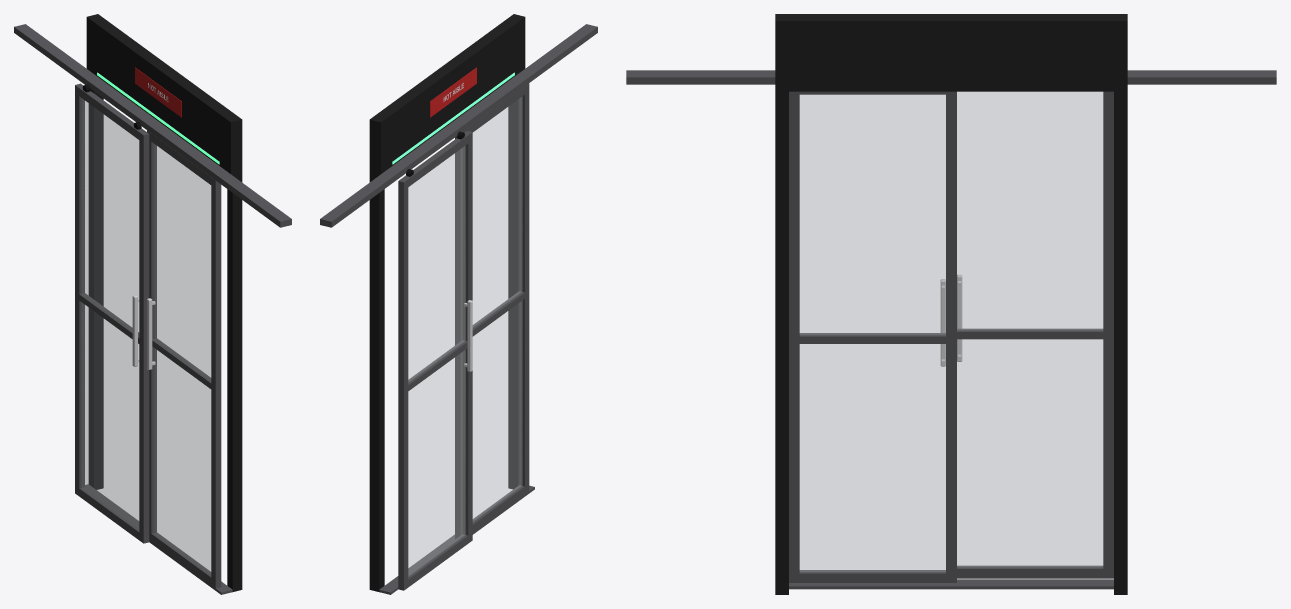
The model's file is Contain_EndDoor.glb.
The picture shows the model from 3 angles, left to right: view 1: azimuth 30°, elevation 25°; view 2: azimuth 150°, elevation 25°; view 3: azimuth 270°, elevation 25°; orthographic projection. The views are drawn at different scales.
Visible parts, largest first — view 1: DoorLeaf_L_Glass, DoorLeaf_R_Glass, Header, Post_-1, Post_+1, Track, DoorLeaf_L_Stile_-1, DoorLeaf_R_Stile_-1, DoorLeaf_R_Stile_+1, DoorLeaf_L_Stile_+1, DoorLeaf_R_Rail_-1, DoorLeaf_L_Rail_-1 (+9 smaller); view 2: DoorLeaf_R_Glass, DoorLeaf_L_Glass, Header, Post_+1, Track, Post_-1, DoorLeaf_R_Stile_+1, DoorLeaf_L_Stile_-1, DoorLeaf_R_Stile_-1, DoorLeaf_L_Stile_+1, DoorLeaf_R_Rail_-1, DoorLeaf_R_Rail_+1 (+8 smaller); view 3: DoorLeaf_L_Glass, DoorLeaf_R_Glass, Header, Post_+1, Post_-1, DoorLeaf_L_Stile_+1, DoorLeaf_L_Stile_-1, DoorLeaf_R_Stile_+1, Track, Guide, DoorLeaf_R_Rail_-1, DoorLeaf_L_Rail_-1 (+2 smaller).
Part boxes in pixels (bbox=[...]): DoorLeaf_L_Glass: bbox=[154, 144, 210, 574]; DoorLeaf_R_Glass: bbox=[82, 99, 138, 528]; Header: bbox=[86, 14, 242, 178]; Post_-1: bbox=[227, 116, 242, 591]; Post_+1: bbox=[88, 14, 103, 489]; Track: bbox=[14, 24, 291, 227]; DoorLeaf_L_Stile_-1: bbox=[211, 177, 221, 588]; DoorLeaf_R_Stile_-1: bbox=[139, 131, 149, 543]; DoorLeaf_R_Stile_+1: bbox=[75, 83, 84, 495]; DoorLeaf_L_Stile_+1: bbox=[147, 130, 156, 540]; DoorLeaf_R_Rail_-1: bbox=[79, 487, 139, 539]; DoorLeaf_L_Rail_-1: bbox=[151, 532, 211, 584]; DoorLeaf_R_Glass: bbox=[408, 146, 465, 575]; DoorLeaf_L_Glass: bbox=[473, 97, 522, 521]; Header: bbox=[369, 14, 525, 178]; Post_+1: bbox=[369, 116, 384, 591]; Track: bbox=[320, 24, 597, 227]; Post_-1: bbox=[508, 14, 522, 489]; DoorLeaf_R_Stile_+1: bbox=[398, 178, 408, 590]; DoorLeaf_L_Stile_-1: bbox=[519, 83, 529, 494]; DoorLeaf_R_Stile_-1: bbox=[462, 131, 472, 543]; DoorLeaf_L_Stile_+1: bbox=[455, 130, 464, 539]; DoorLeaf_R_Rail_-1: bbox=[408, 534, 468, 587]; DoorLeaf_R_Rail_+1: bbox=[403, 134, 468, 186]; DoorLeaf_L_Glass: bbox=[800, 95, 945, 571]; DoorLeaf_R_Glass: bbox=[957, 92, 1102, 566]; Header: bbox=[775, 14, 1127, 91]; Post_+1: bbox=[1114, 15, 1127, 594]; Post_-1: bbox=[775, 15, 788, 594]; DoorLeaf_L_Stile_+1: bbox=[946, 91, 956, 582]; DoorLeaf_L_Stile_-1: bbox=[789, 91, 799, 582]; DoorLeaf_R_Stile_+1: bbox=[1103, 91, 1113, 578]; Track: bbox=[626, 70, 1276, 84]; Guide: bbox=[789, 579, 1113, 589]; DoorLeaf_R_Rail_-1: bbox=[957, 565, 1103, 578]; DoorLeaf_L_Rail_-1: bbox=[799, 570, 945, 582].
Size of the model in its own units: 0.175 by 2.34 by 2.4.
